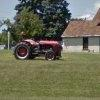Tractor: (11, 28, 79, 64)
